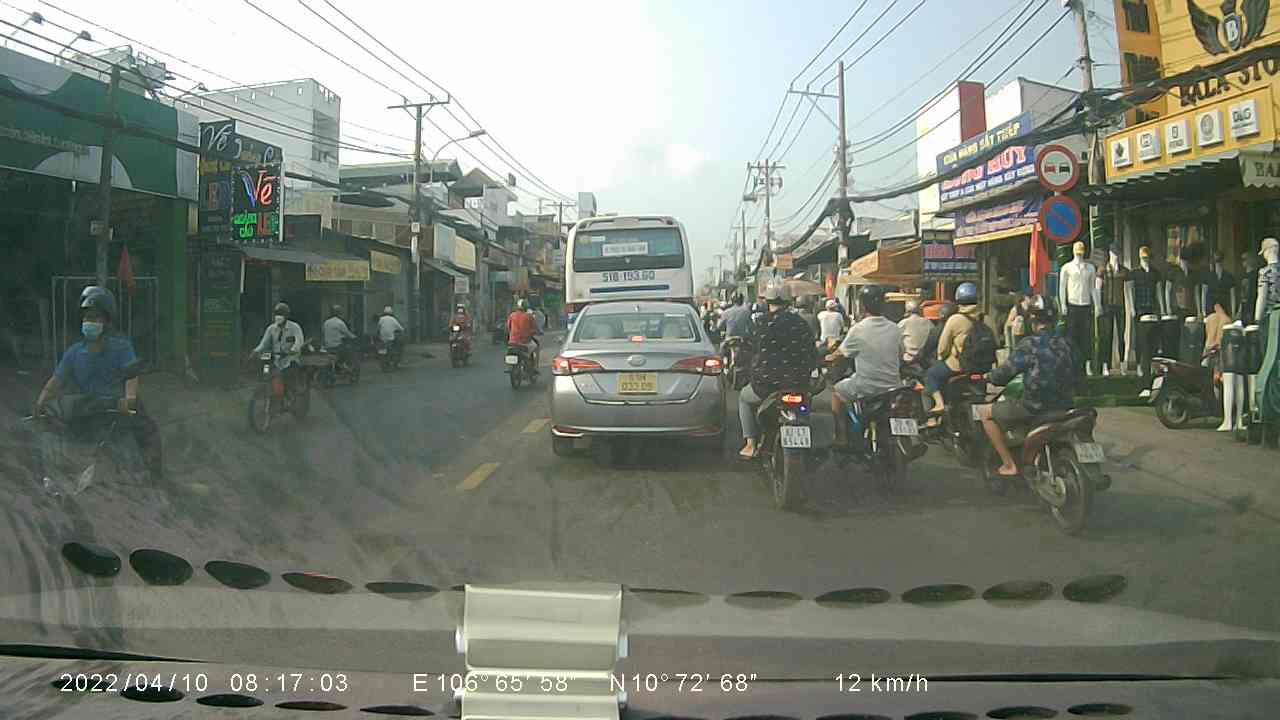Bien khac: (1033, 142, 1080, 190)
Cam do xe: (1034, 194, 1083, 244)
